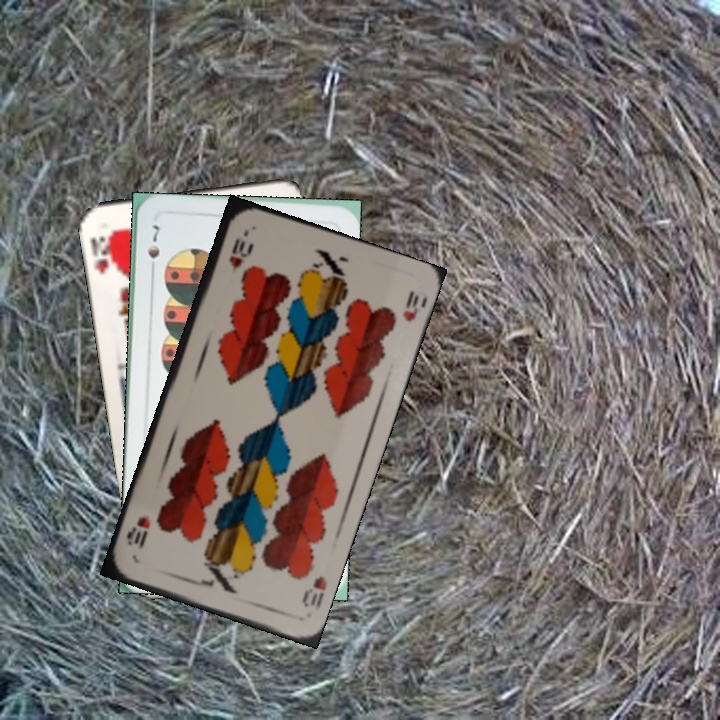H10: (298, 572, 330, 611), (225, 233, 248, 276)
HK: (87, 226, 119, 277)
S7: (144, 221, 163, 277)
